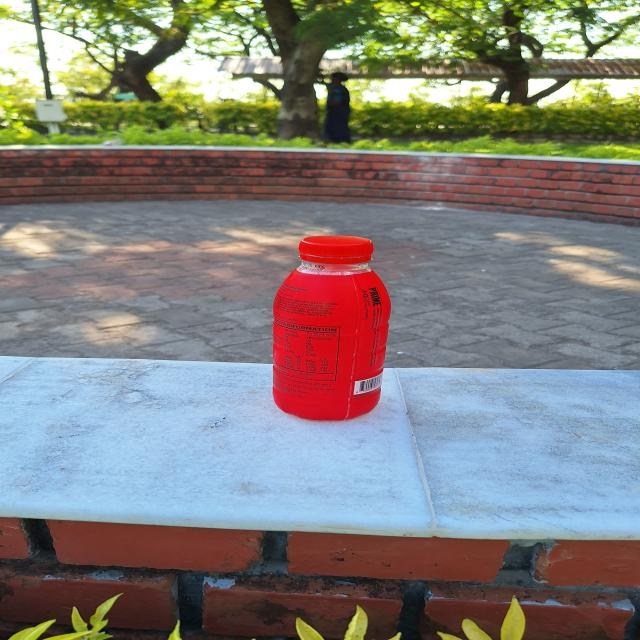Prime - Shitass: (276, 229, 387, 425)
